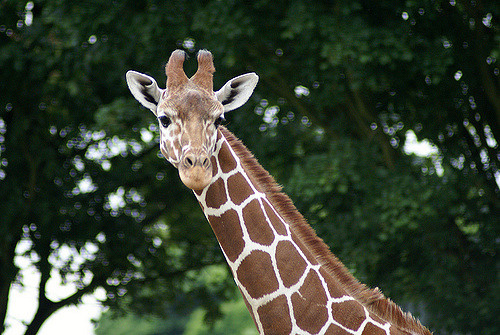giraffe: (121, 54, 379, 319)
